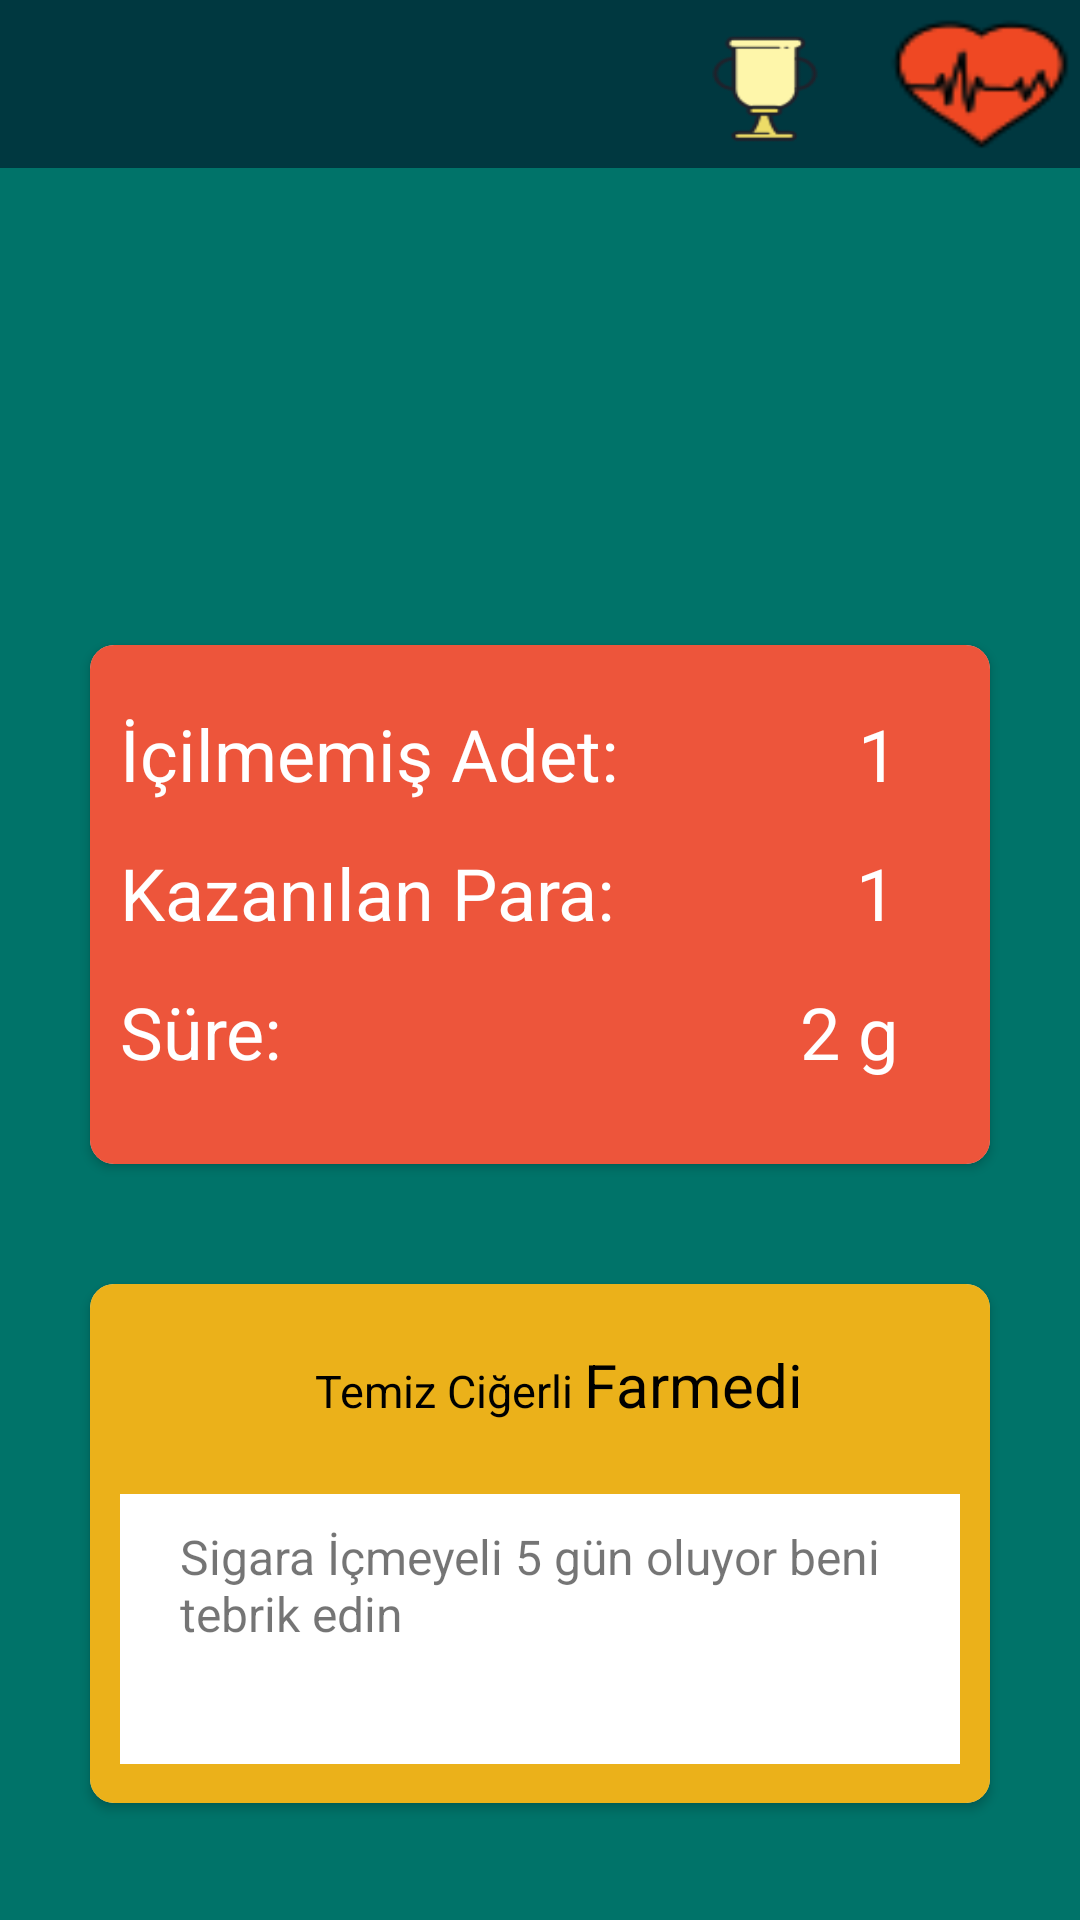

Where to tap for icons on this 1080px x 1920px app screen, as point (x, y):
ach: point (765, 88)
heart: point (981, 84)
